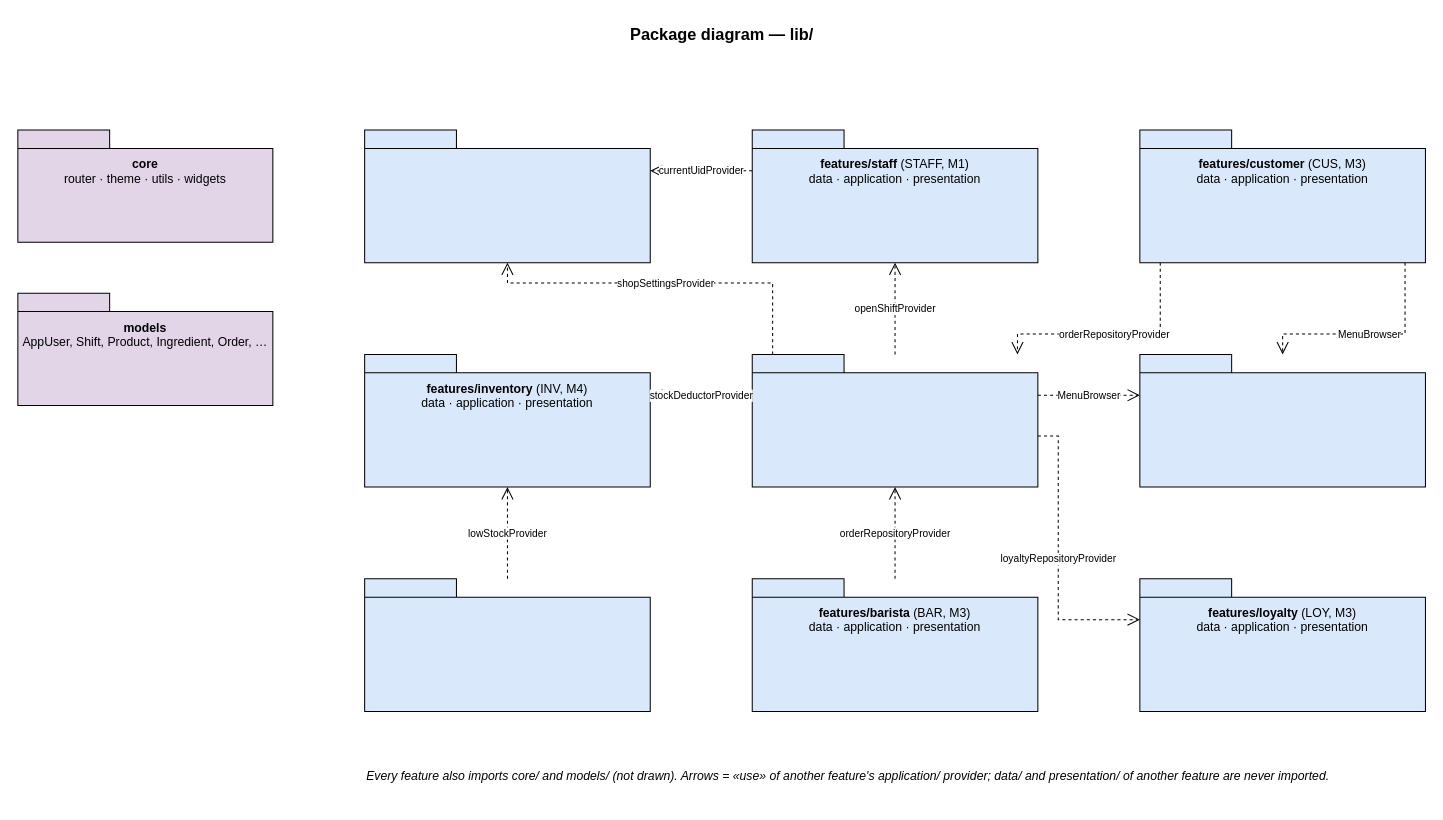
This 1443x820 diagram has some shape labels left out. The centre of each missing label's shape, as x and y in pixels:
"features/auth (AUTH, M1) data · application · presentation" belongs at (x=507, y=196).
"features/menu (MENU, M4) data · application · presentation" belongs at (x=1282, y=420).
"features/pos (POS, M2) data · application · presentation" belongs at (x=894, y=420).
"features/reports (RPT, M3) data · application · presentation" belongs at (x=507, y=644).
